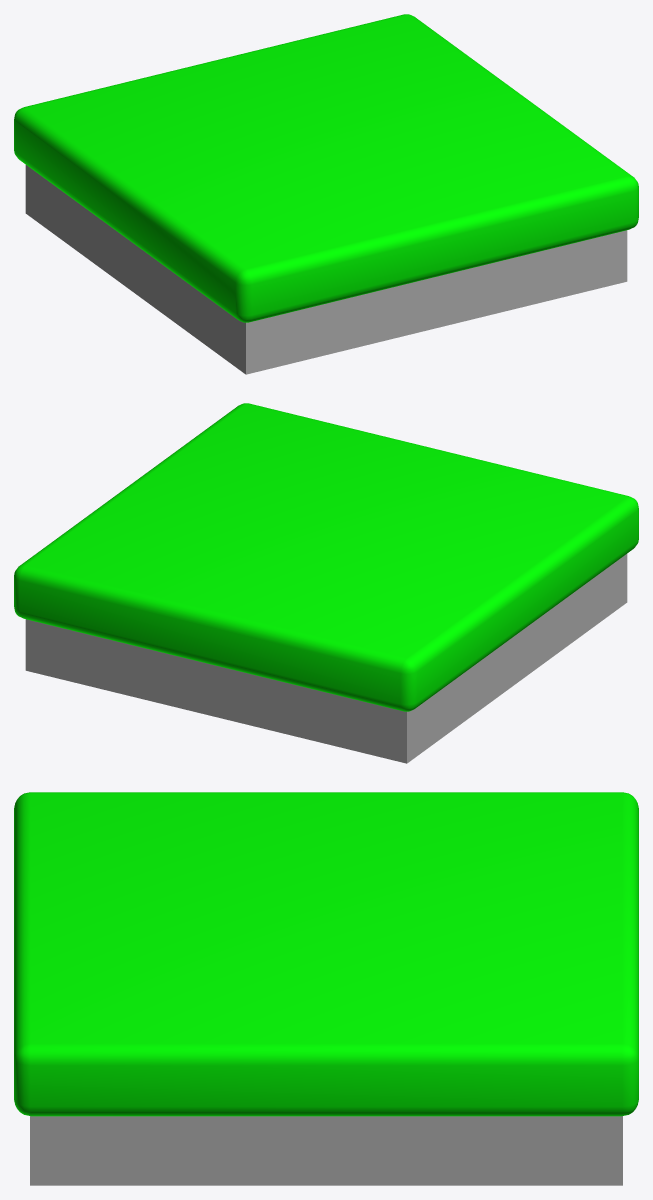
Rendered from Base 1 Low White Green.glb.
3 views of the same model, one above another, from view 1: azimuth 30°, elevation 25°; view 2: azimuth 150°, elevation 25°; view 3: azimuth 270°, elevation 25° (orthographic). The views are drawn at different scales.
Visible parts, largest first — view 1: Base_1_Low_White_; view 2: Base_1_Low_White_; view 3: Base_1_Low_White_.
Boxes of the visible parts, bbox=[...] form: Base_1_Low_White_: bbox=[14, 14, 638, 374]; Base_1_Low_White_: bbox=[14, 403, 638, 763]; Base_1_Low_White_: bbox=[14, 792, 638, 1185].
Bounding box in the file's own units: 7.98 × 2 × 7.98.
